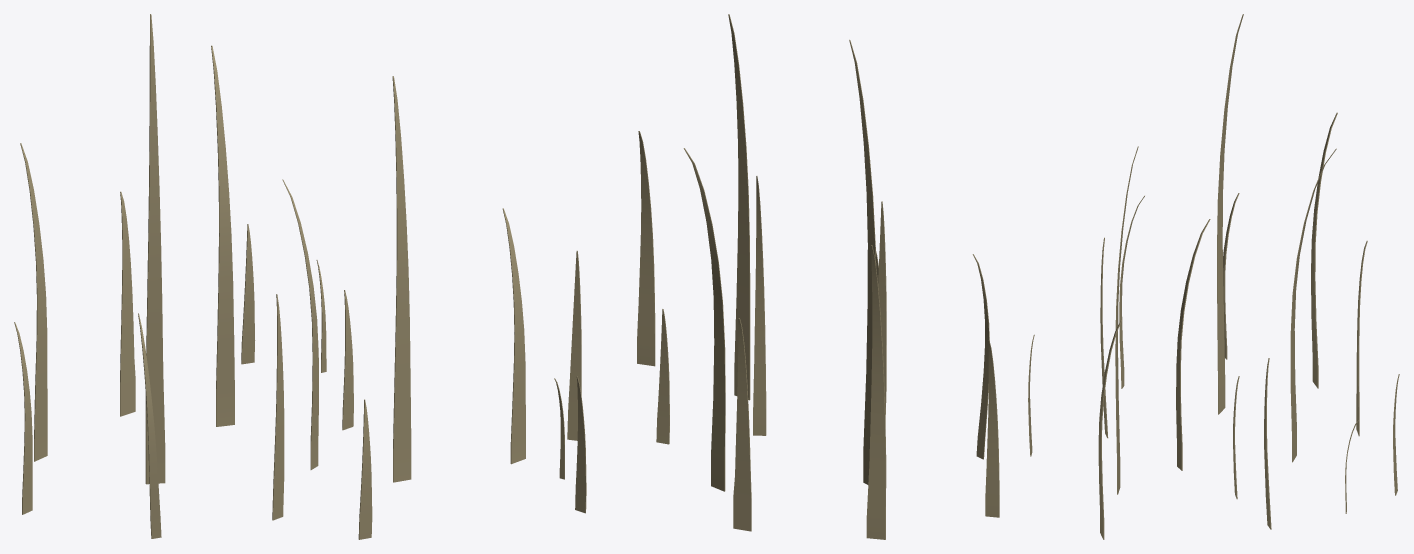
The model's file is Grass1.fbx.
3 renders of one model, left to right at view 1: azimuth 30°, elevation 25°; view 2: azimuth 150°, elevation 25°; view 3: azimuth 270°, elevation 25°, orthographic. The views are drawn at different scales.
Parts seen in each view (by area): view 1: Grass3; view 2: Grass3; view 3: Grass3.
Part boxes in pixels (x1=…): Grass3: x1=14, y1=14, x2=525, y2=539; Grass3: x1=554, y1=14, x2=999, y2=539; Grass3: x1=1028, y1=14, x2=1399, y2=539.
Bounding box in the file's own units: 134 × 114 × 135.
